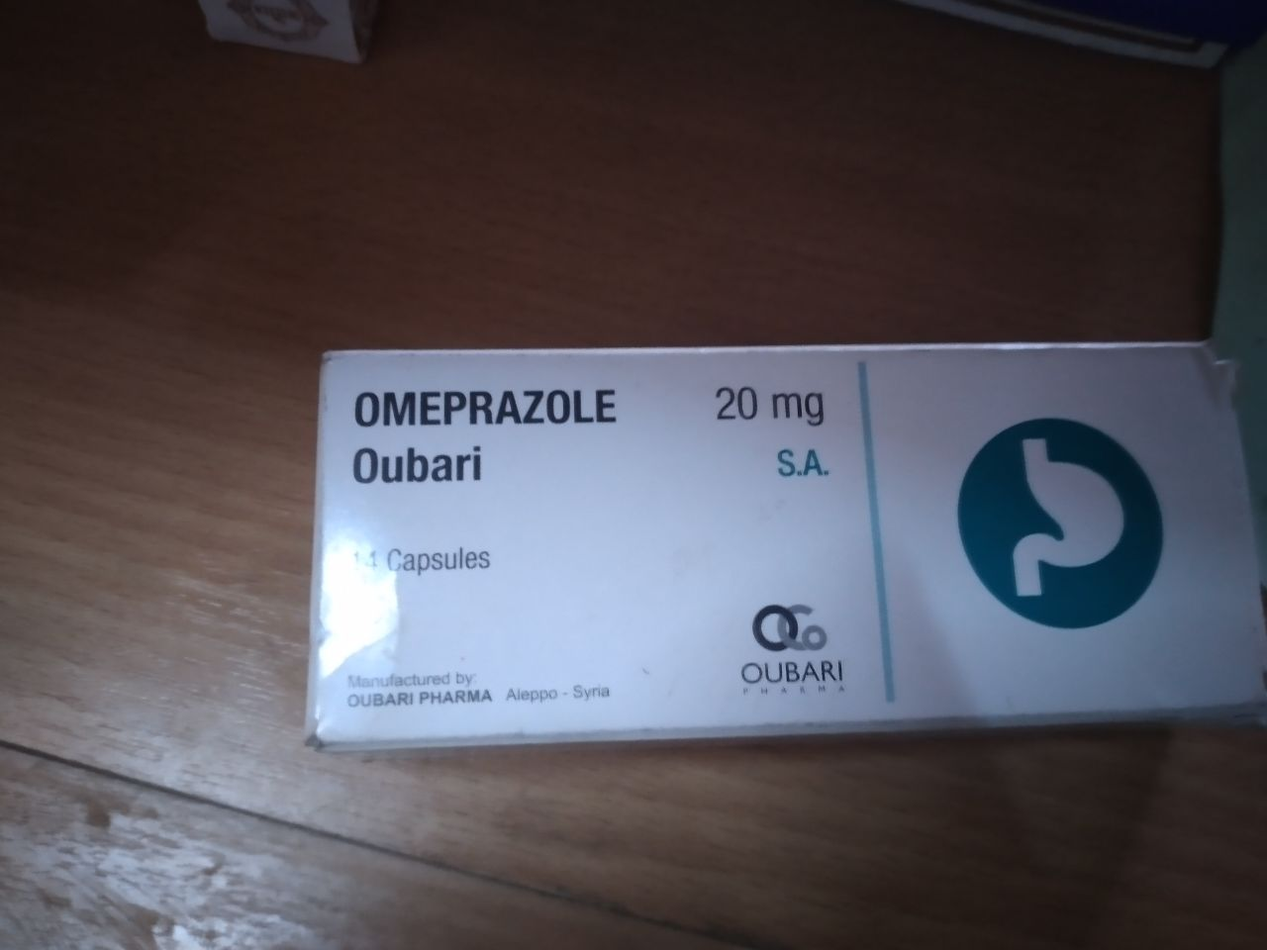Medicine: (312, 344, 1267, 757)
